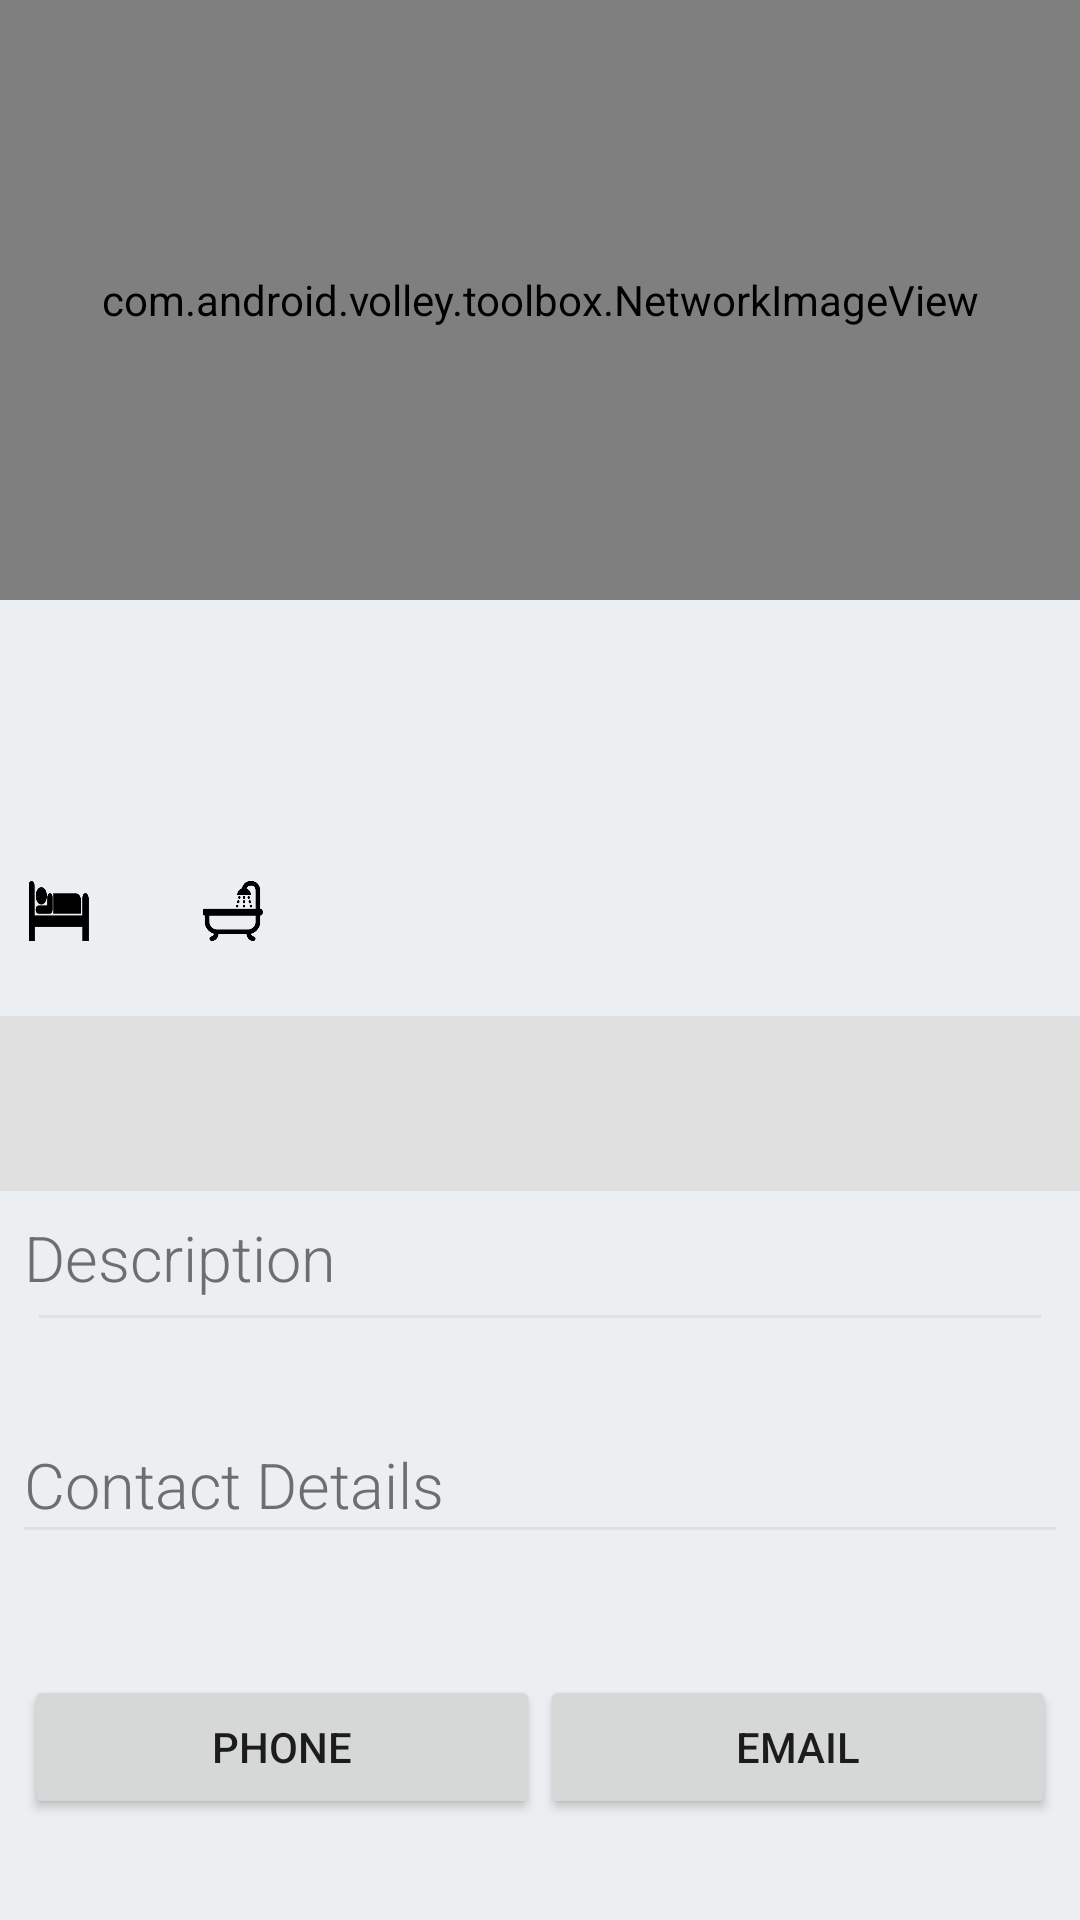

Icons on this 1080px x 1920px Android screen, each with its box as box(x1, y1, x2, y2):
bath: box(203, 881, 263, 941)
bed: box(29, 881, 89, 941)
